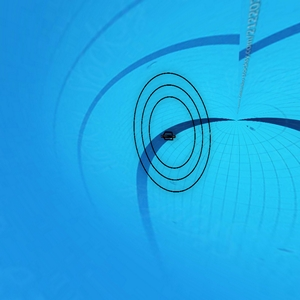circle: (133, 68, 215, 196)
submarine: (160, 130, 174, 140)
